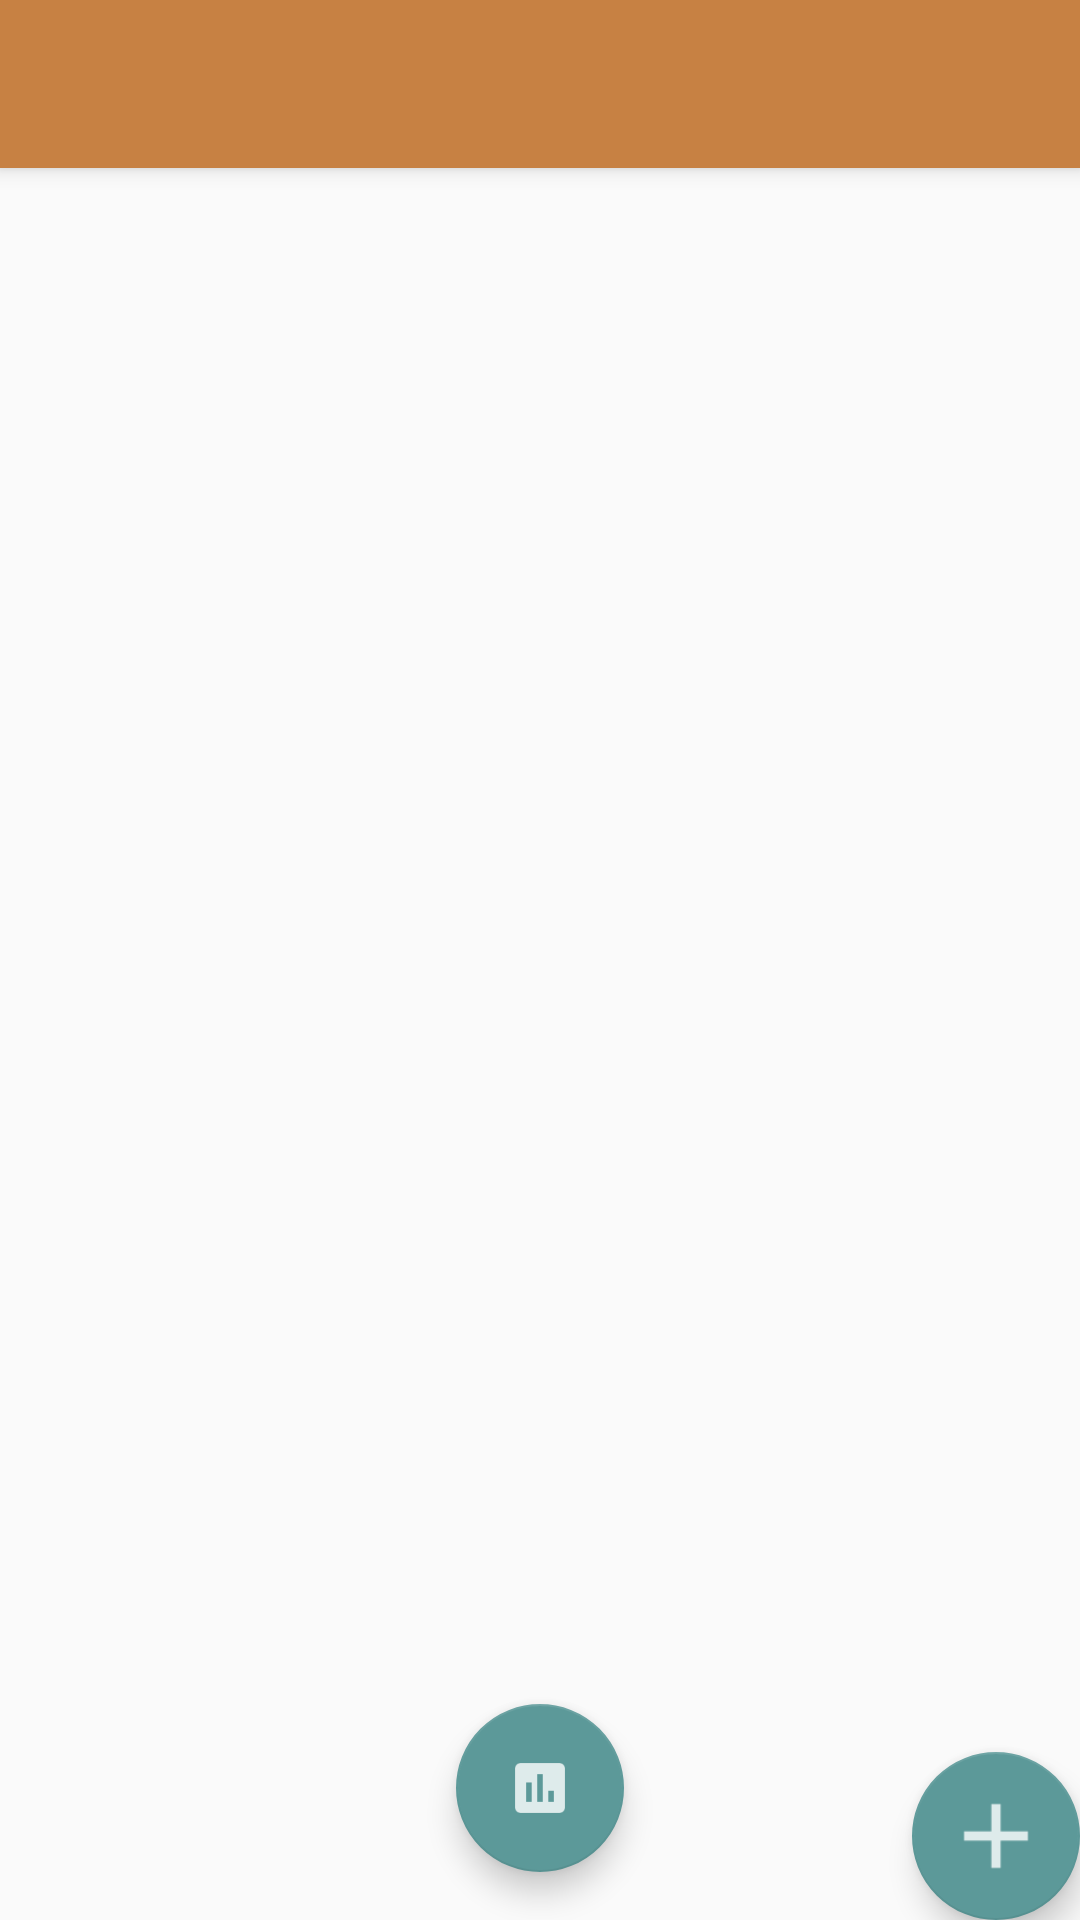

Where icons sit on this 1080px×1920px app screen, as bbox(x1, y1, x2, y2):
add: bbox(912, 1752, 1080, 1920)
stats: bbox(456, 1704, 624, 1872)
